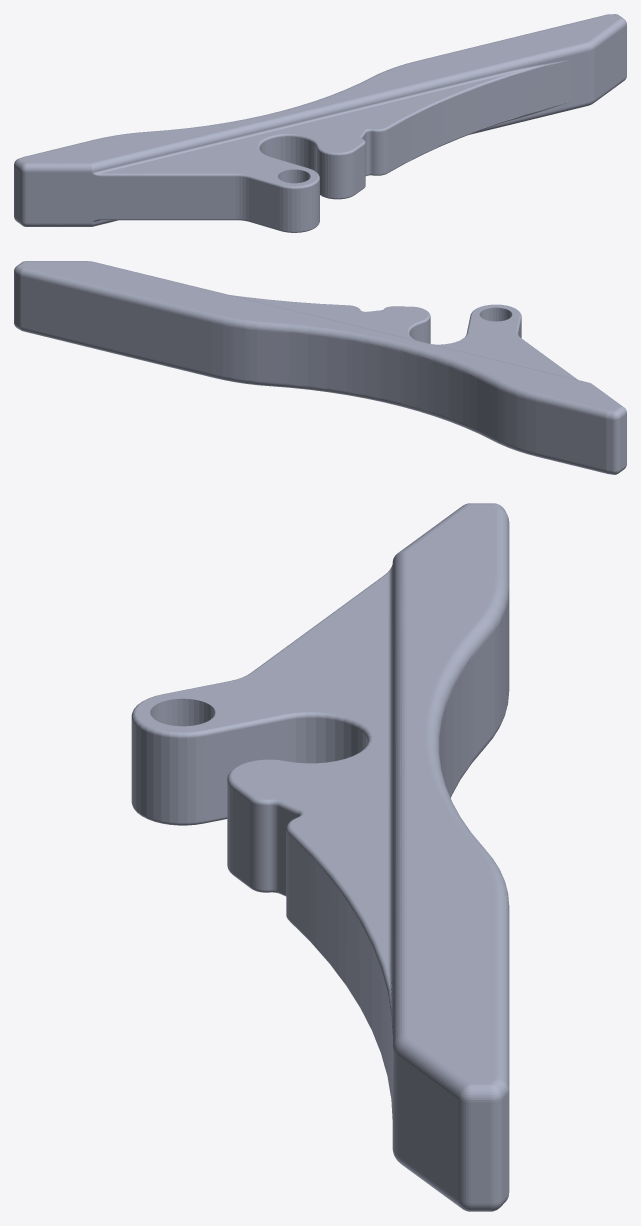
File: left_ankle_link.obj
3 renders of one model, top to bottom at view 1: azimuth 30°, elevation 25°; view 2: azimuth 150°, elevation 25°; view 3: azimuth 270°, elevation 25°, orthographic. The views are drawn at different scales.
Parts seen in each view (by area): view 1: left_ankle_link-mesh; view 2: left_ankle_link-mesh; view 3: left_ankle_link-mesh.
Boxes of the visible parts, x1,y1,x2,y2 form: left_ankle_link-mesh: (14, 14, 626, 232); left_ankle_link-mesh: (14, 261, 626, 474); left_ankle_link-mesh: (131, 503, 509, 1211).
Size of the model in its own units: 0.3 by 0.03 by 0.081.
